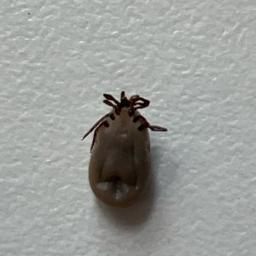Ixodes scapularis: (80, 94, 167, 206)
